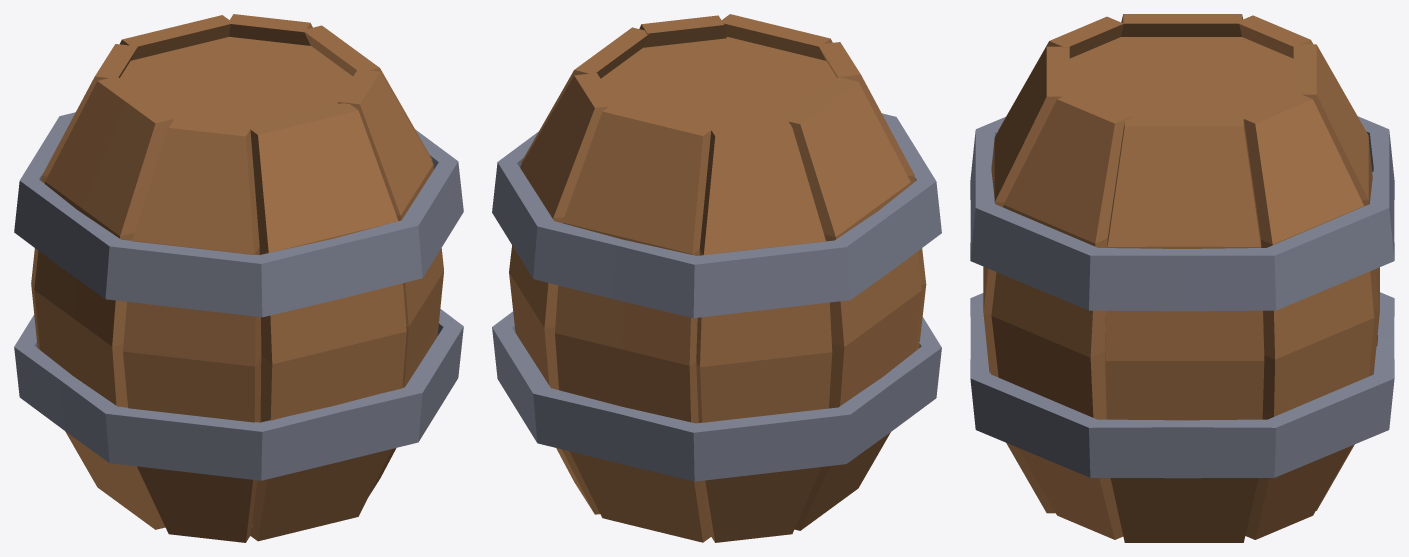
Rendered from BarrelSplitUp.fbx.
3 views of the same model, side by side, from view 1: azimuth 30°, elevation 25°; view 2: azimuth 150°, elevation 25°; view 3: azimuth 270°, elevation 25° (orthographic). The views are drawn at different scales.
Parts seen in each view (by area): view 1: Plank2.002, Plank1.002, metal, metal.001, Plank2.001, TopBottom.001, Plank1.003, Plank2.003, Plank1.001, Plank1, Plank2; view 2: Plank2.003, Plank1.001, metal, metal.001, Plank2.001, TopBottom.001, Plank1, Plank2.002, Plank1.002, Plank1.003, Plank2; view 3: Plank2, metal, Plank1.003, Plank1, metal.001, TopBottom.001, Plank2.002, Plank2.003, Plank2.001, Plank1.002, Plank1.001.
Boxes of the visible parts, bbox=[...] form: Plank2.002: bbox=[248, 103, 406, 541]; Plank1.002: bbox=[123, 118, 261, 542]; metal: bbox=[14, 112, 463, 317]; metal.001: bbox=[14, 309, 463, 480]; Plank2.001: bbox=[34, 77, 174, 529]; TopBottom.001: bbox=[120, 36, 352, 126]; Plank1.003: bbox=[337, 69, 443, 495]; Plank2.003: bbox=[120, 15, 230, 60]; Plank1.001: bbox=[31, 44, 137, 349]; Plank1: bbox=[227, 14, 312, 45]; Plank2: bbox=[305, 25, 432, 162]; Plank2.003: bbox=[555, 104, 711, 542]; Plank1.001: bbox=[696, 118, 832, 542]; metal: bbox=[492, 113, 941, 318]; metal.001: bbox=[492, 311, 941, 481]; Plank2.001: bbox=[783, 77, 921, 530]; TopBottom.001: bbox=[601, 37, 836, 126]; Plank1: bbox=[509, 73, 617, 514]; Plank2.002: bbox=[721, 14, 832, 60]; Plank1.002: bbox=[818, 42, 926, 350]; Plank1.003: bbox=[639, 15, 726, 47]; Plank2: bbox=[521, 27, 648, 164]; Plank2: bbox=[1105, 117, 1264, 542]; metal: bbox=[970, 116, 1394, 311]; Plank1.003: bbox=[991, 92, 1131, 539]; Plank1: bbox=[1238, 92, 1374, 539]; metal.001: bbox=[970, 292, 1394, 478]; TopBottom.001: bbox=[1069, 37, 1293, 116]; Plank2.002: bbox=[983, 46, 1069, 513]; Plank2.003: bbox=[1293, 44, 1379, 510]; Plank2.001: bbox=[1121, 14, 1243, 36]; Plank1.002: bbox=[998, 16, 1123, 130]; Plank1.001: bbox=[1236, 15, 1312, 58].
Bounding box in the file's own units: 223 × 242 × 223.
